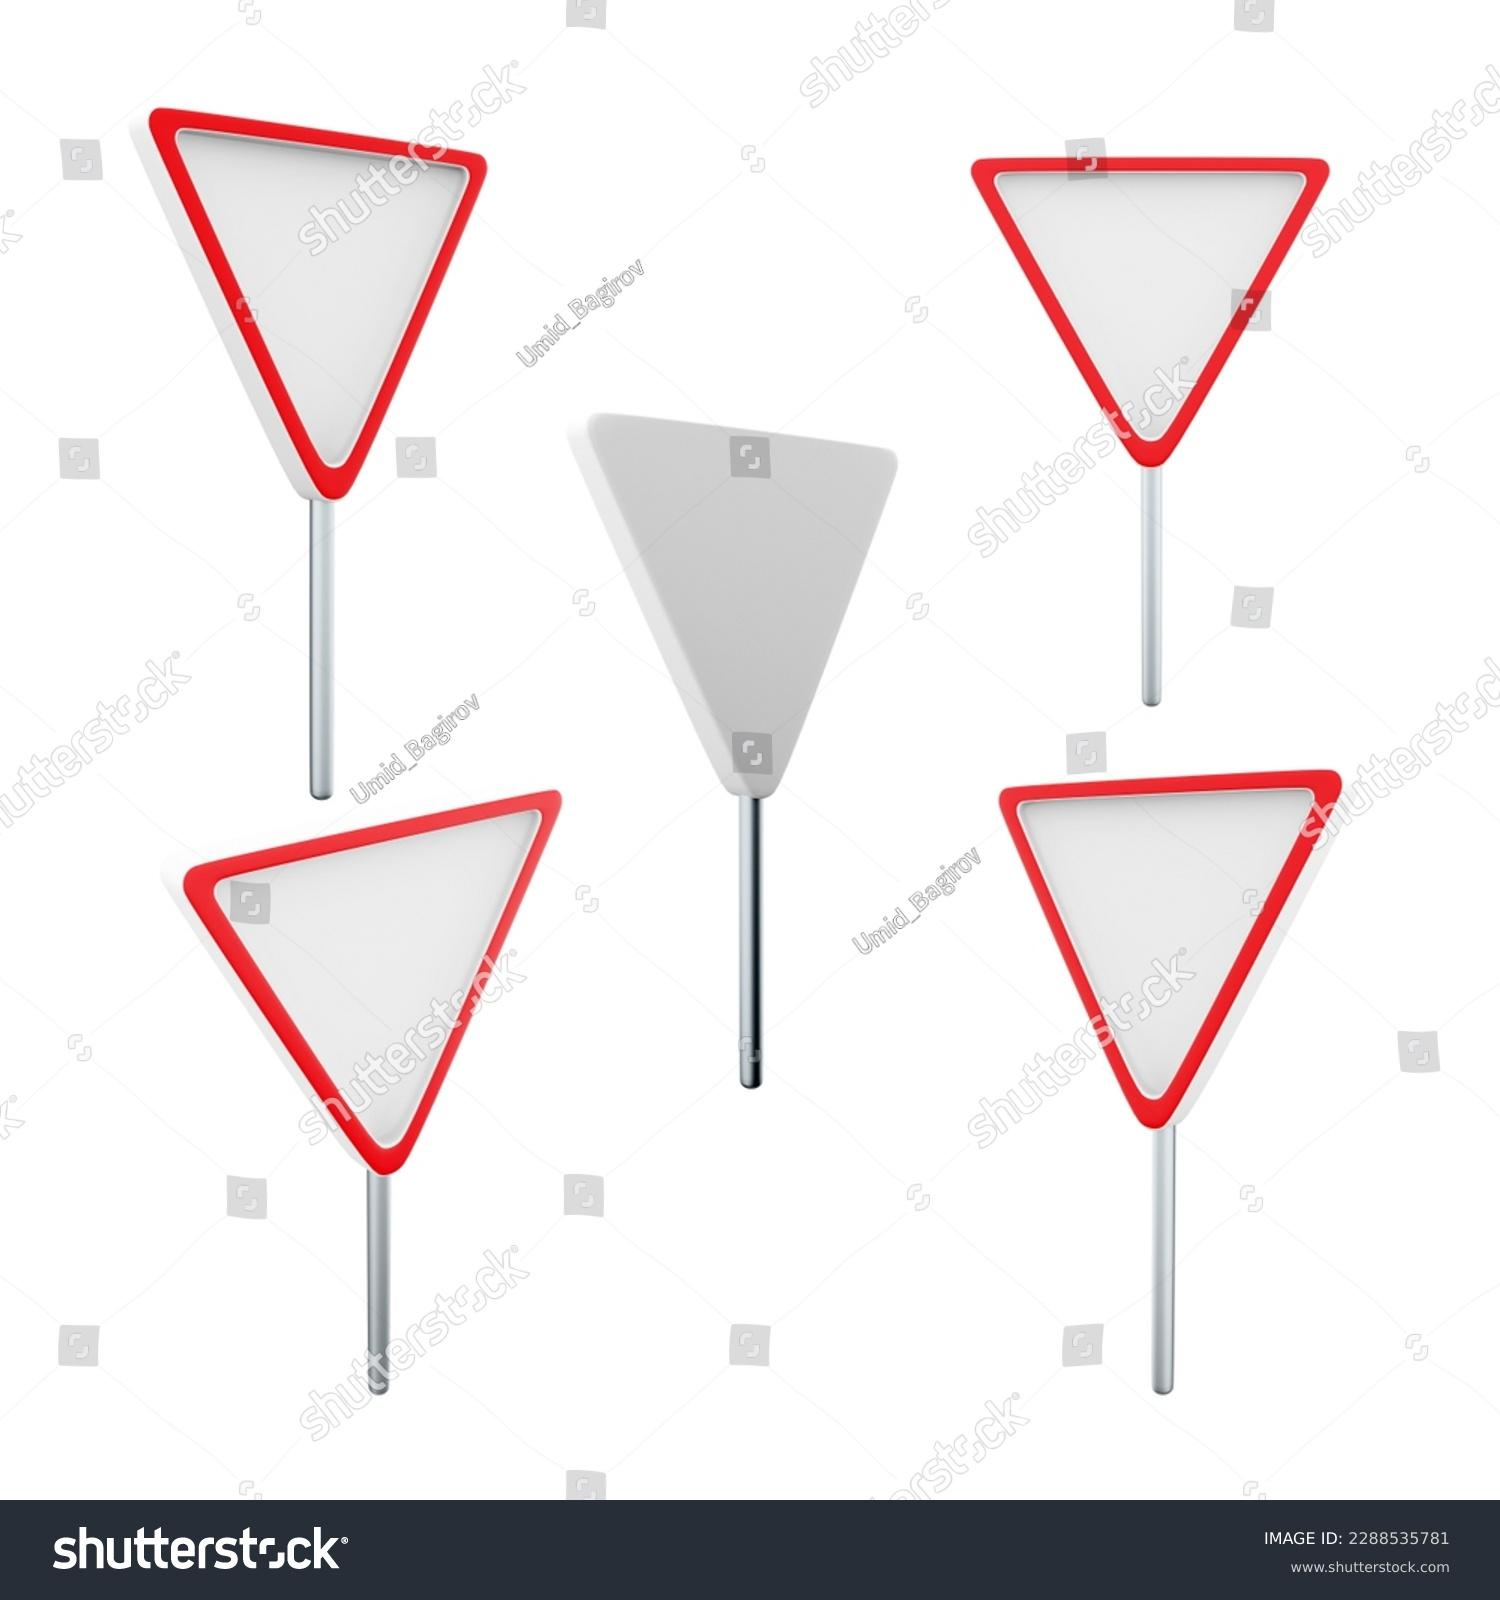Give Way: (171, 767, 602, 1202), (977, 710, 1389, 1128), (131, 87, 512, 522), (950, 100, 1373, 465)
